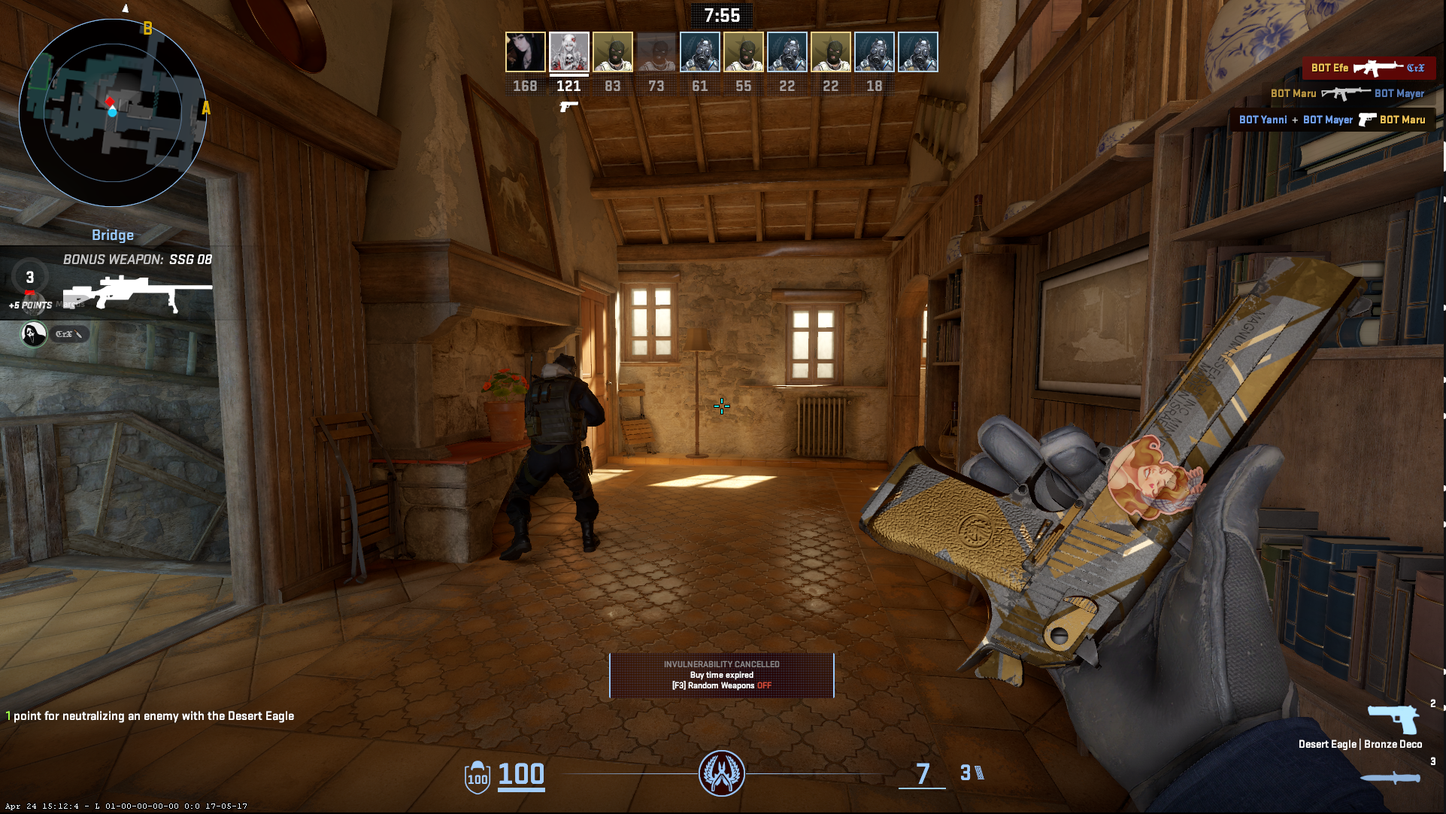CT: (505, 357, 604, 564)
